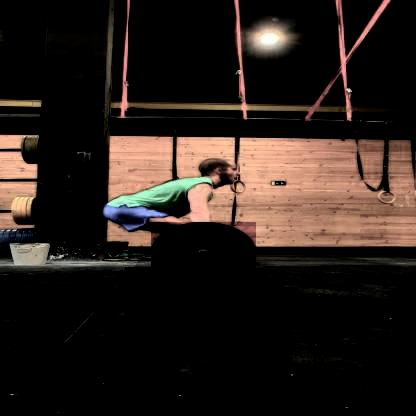barbell: (151, 223, 256, 282)
